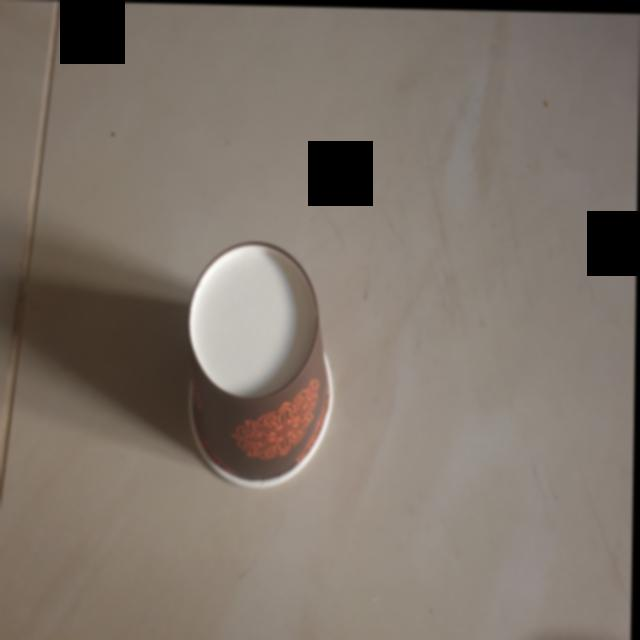cups: (183, 229, 341, 490)
